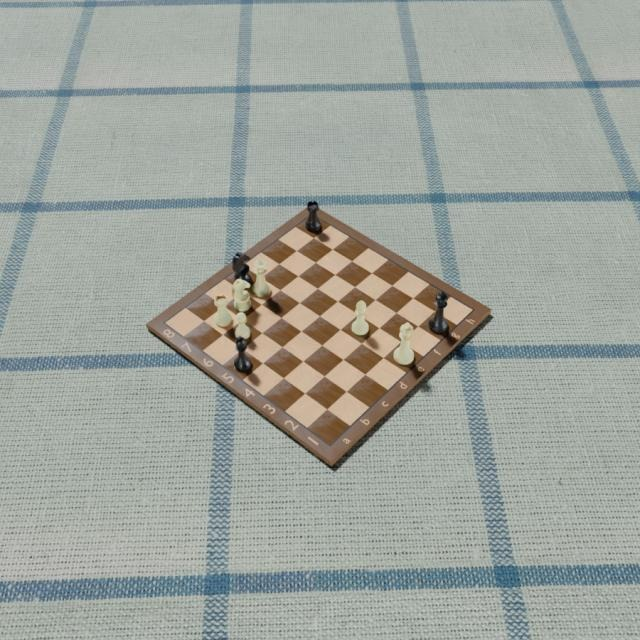black-bishop: (234, 335, 254, 373)
black-king: (427, 290, 449, 334)
black-knight: (232, 252, 252, 282)
black-rook: (304, 199, 321, 232)
white-bishop: (350, 299, 370, 337)
white-king: (393, 321, 415, 366)
white-knight: (230, 279, 253, 313)
white-pawn: (233, 312, 251, 340)
white-queen: (252, 256, 271, 298)
white-rook: (213, 293, 231, 327)
